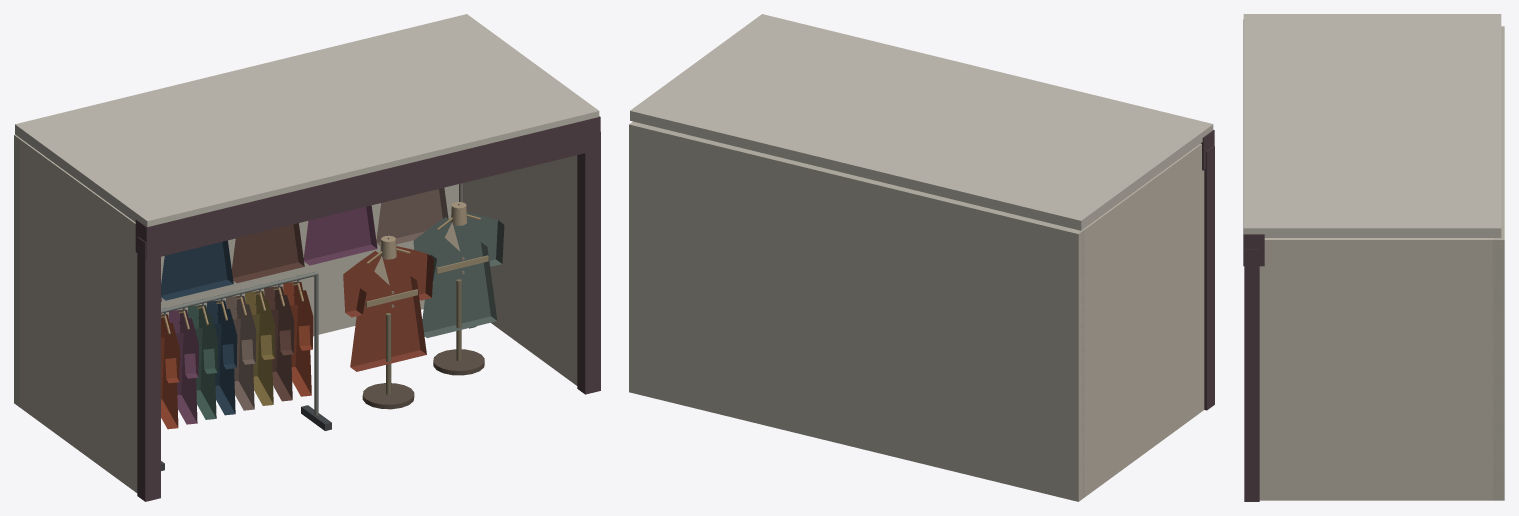
File: Womenswear.glb
The picture shows the model from 3 angles, left to right: view 1: azimuth 30°, elevation 25°; view 2: azimuth 150°, elevation 25°; view 3: azimuth 270°, elevation 25°; orthographic projection. The views are drawn at different scales.
Visible parts, largest first — view 1: Womenswear; view 2: Womenswear; view 3: Womenswear.
Boxes of the visible parts, box(x1,y1,x2,y2) form: Womenswear: box(14, 14, 600, 501); Womenswear: box(629, 14, 1214, 501); Womenswear: box(1243, 14, 1504, 501).
Bounding box in the file's own units: 5.26 × 3.1 × 2.69.
